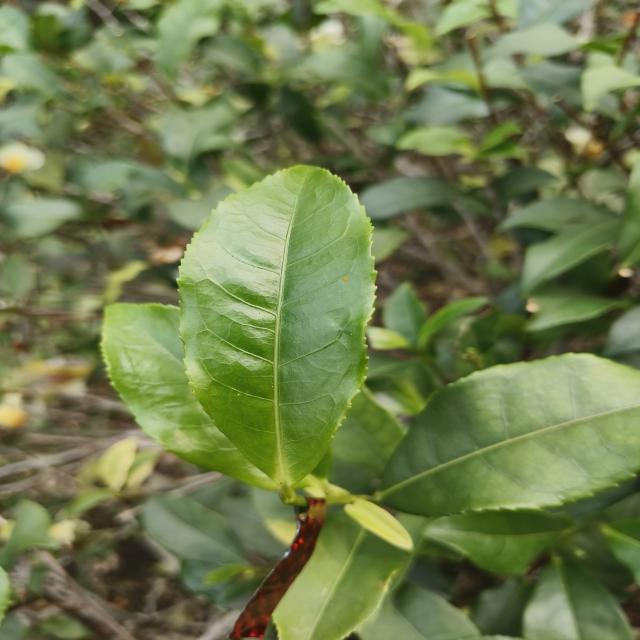Leaf: (178, 166, 375, 487), (380, 354, 640, 516), (102, 303, 273, 489), (273, 511, 409, 640), (426, 511, 571, 574), (524, 558, 633, 640), (359, 585, 513, 640), (142, 495, 246, 566), (522, 219, 618, 292), (156, 0, 223, 78), (526, 287, 625, 331), (359, 177, 457, 220), (299, 51, 386, 97), (407, 84, 490, 126), (492, 23, 579, 57), (382, 282, 426, 346), (494, 97, 509, 112)
